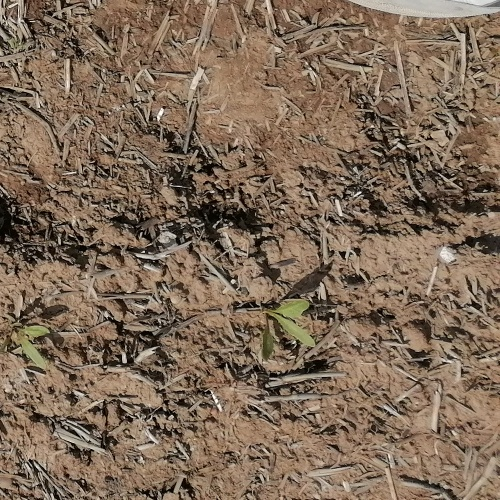beet: (258, 296, 315, 361), (0, 317, 50, 370)
